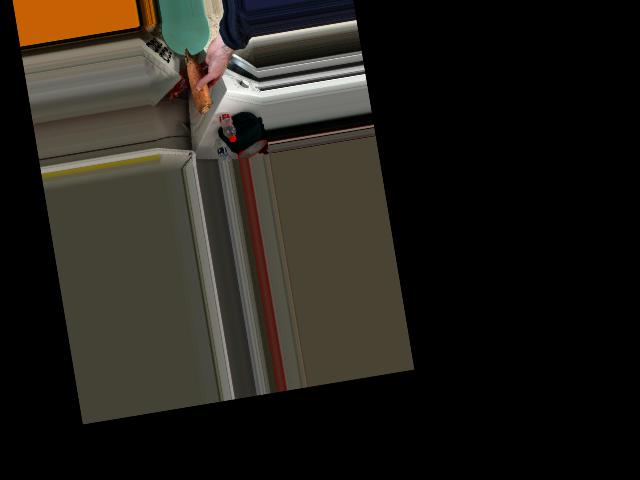sweet_potato: (183, 47, 215, 117)
